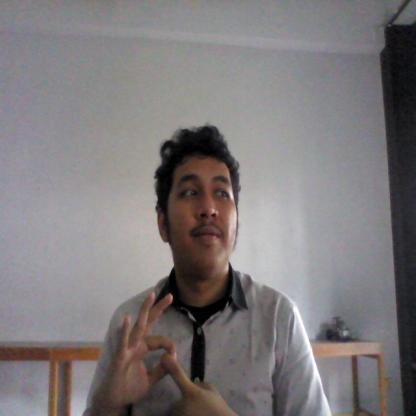Q: (111, 289, 228, 416)
